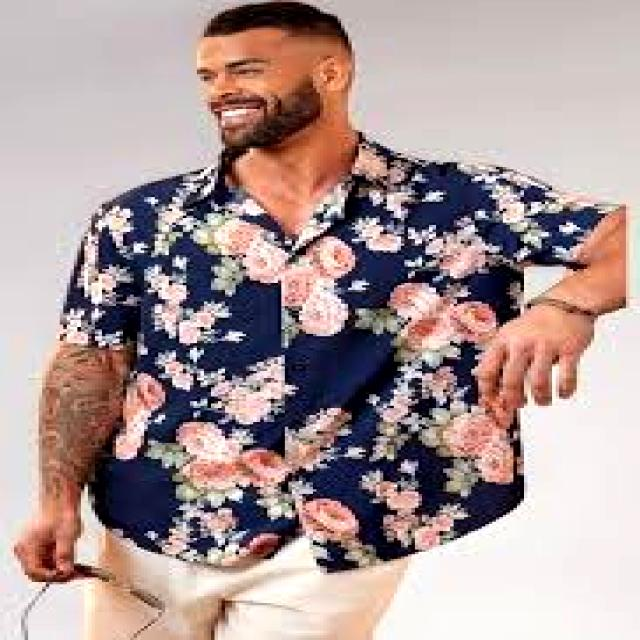face: (197, 28, 327, 148)
lower-wear: (99, 529, 411, 639)
top-wear: (60, 133, 618, 570)
